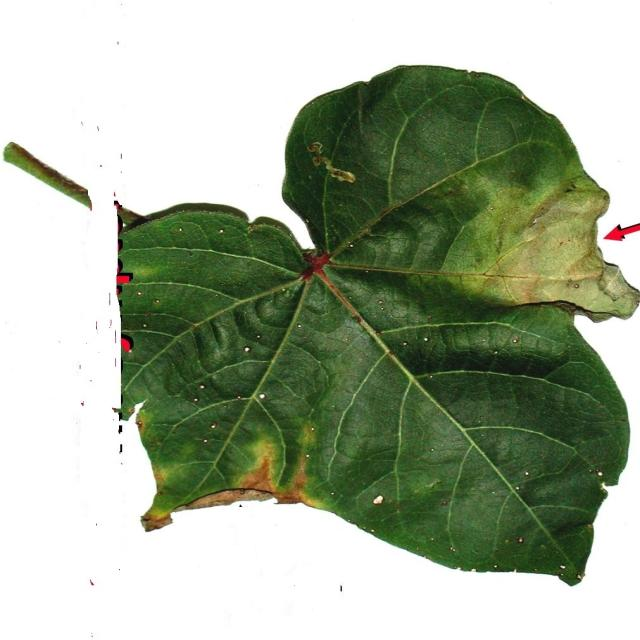Fusarium Wilt: (96, 68, 625, 590)
